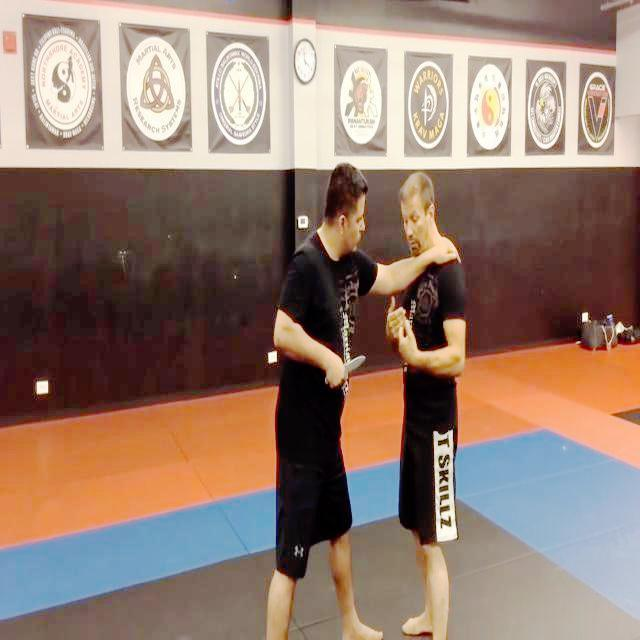Knife: (322, 347, 374, 393)
